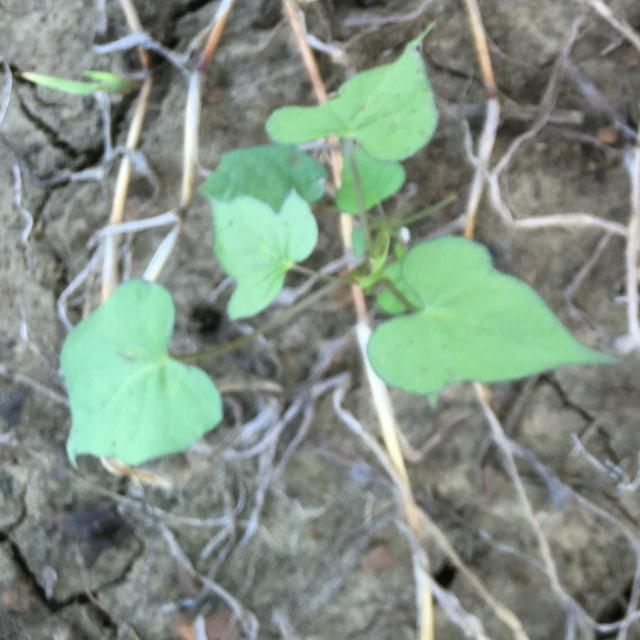MorningGlory: (61, 20, 618, 469)
